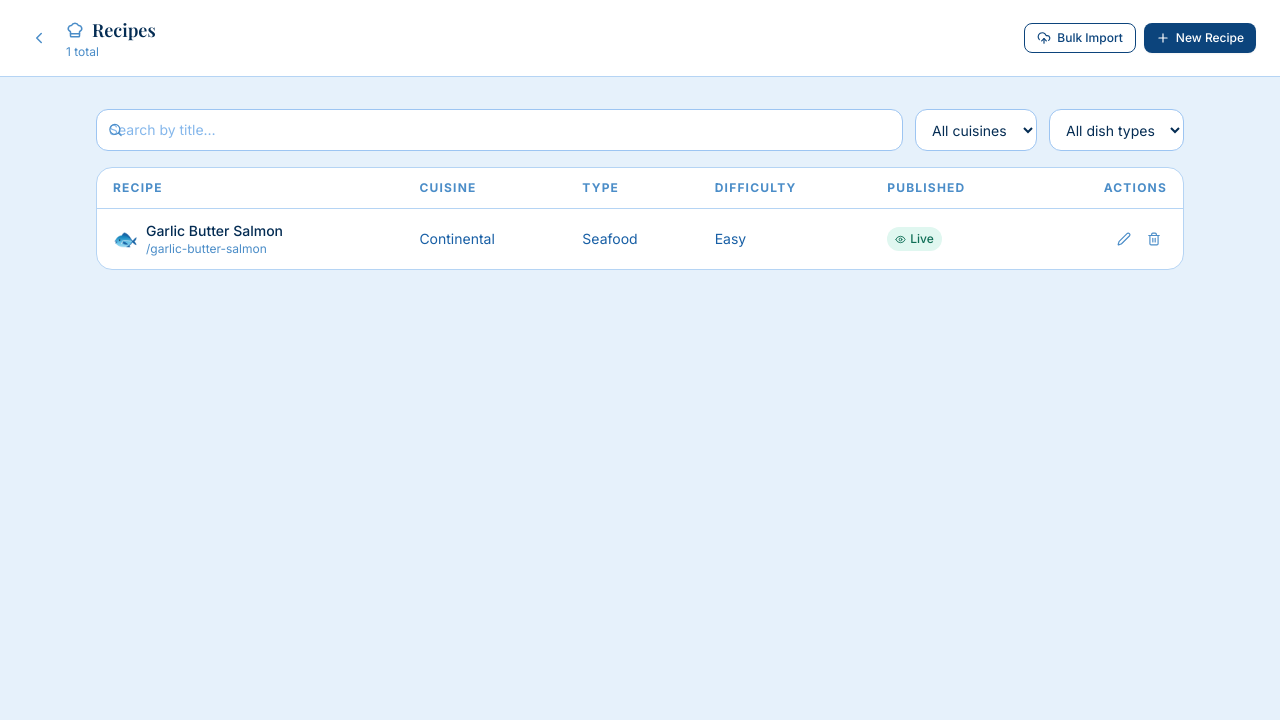
Scenario: AdminRecipesPage › opens the edit modal pre-filled with recipe data
Expected: the text "Garlic Butter Salmon" is shown, 146,221 -> 283,241
Step 1. Click the button named "Edit Garlic Butter Salmon" → click(1124, 239), box 1111,226 -> 1137,252
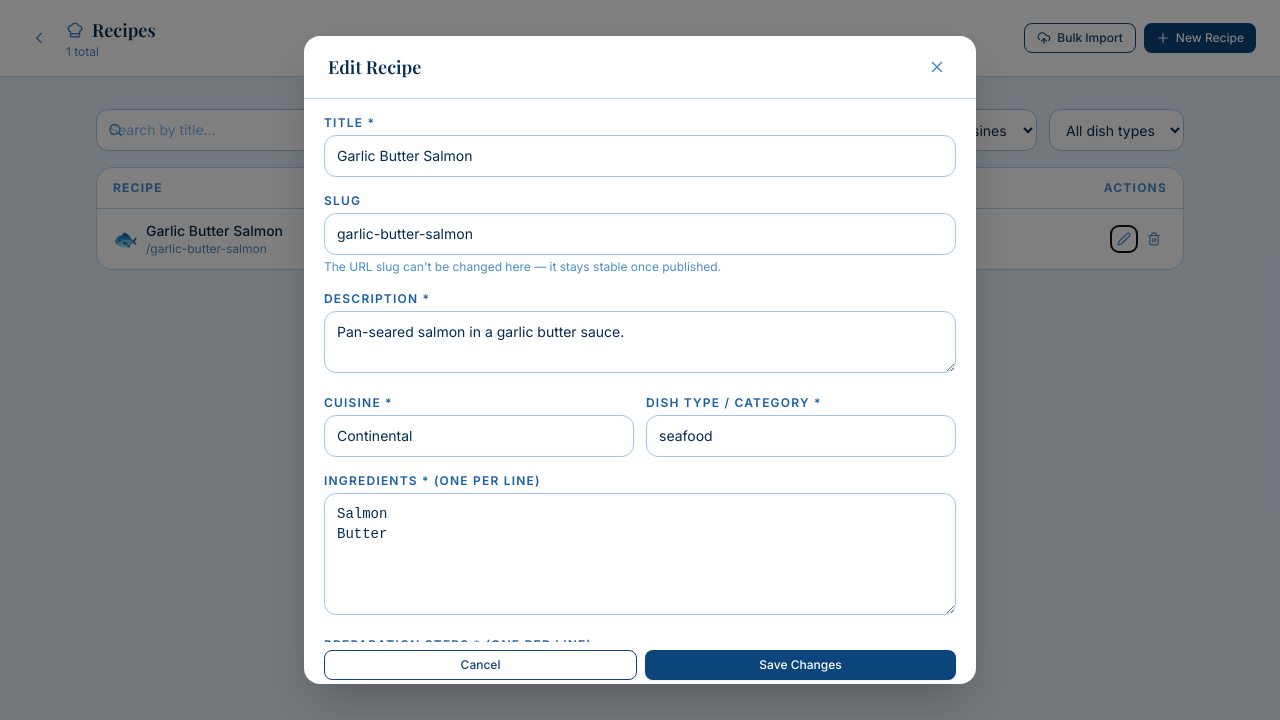
Result: the heading "Edit Recipe" is shown at 328,53 -> 421,81
Result: the field with placeholder "Garlic Butter Salmon" below "Title *" holds "Garlic Butter Salmon" at 324,135 -> 956,177
